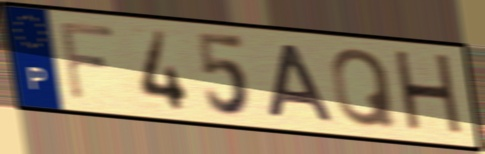4: (136, 26, 192, 114)
5: (195, 32, 259, 121)
A: (264, 40, 337, 125)
F: (56, 19, 119, 104)
H: (389, 46, 469, 142)
Q: (329, 45, 400, 131)
